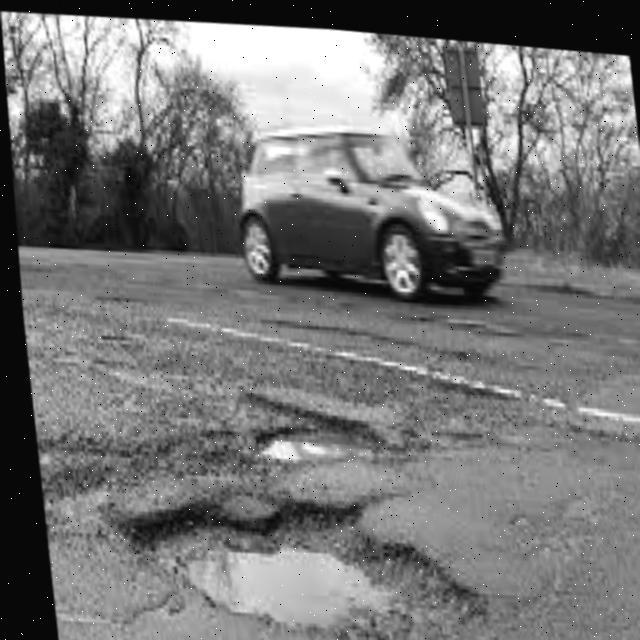pothole: (113, 475, 491, 640), (235, 390, 388, 473)
